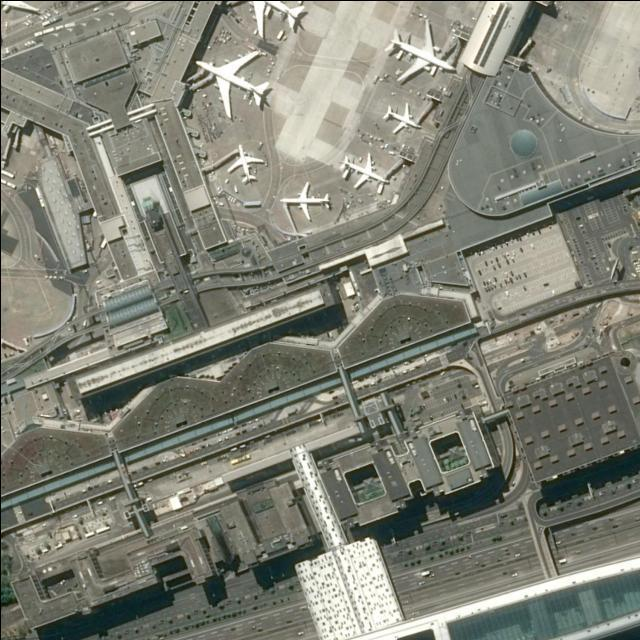Aircraft: (194, 49, 274, 122), (383, 18, 459, 86), (228, 0, 310, 40), (280, 180, 336, 225), (339, 151, 393, 193), (225, 144, 267, 186), (380, 103, 424, 137), (0, 0, 46, 31)
